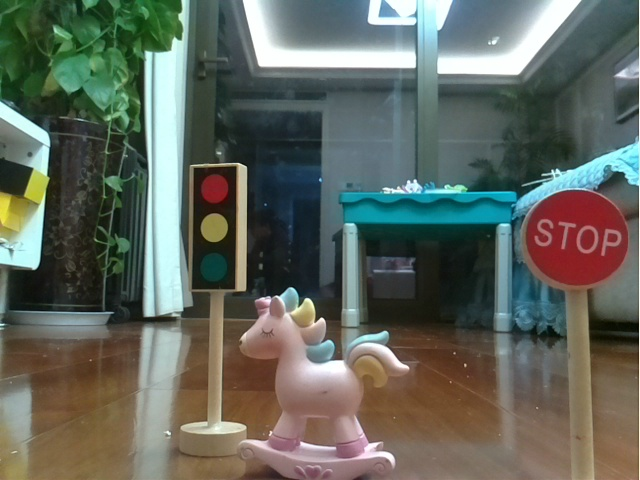Horse: (238, 285, 413, 480)
Red Traffic Light: (174, 156, 254, 458)
Stop Sign: (514, 181, 631, 480)
